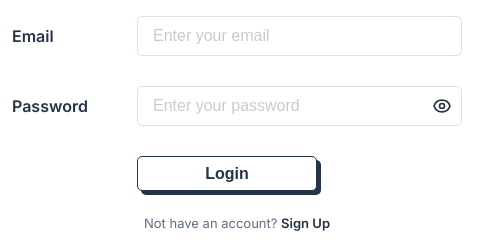
Test: login › should show password input
Click the password field with placeholder "Enter your password" at coordinates (300, 106), box x1=137 y1=86 x2=462 y2=126
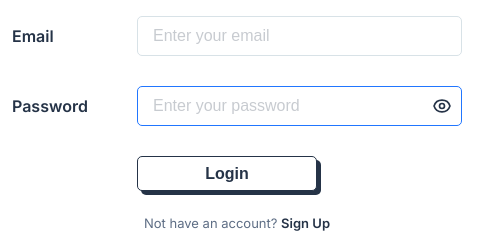
Type keys "password123"
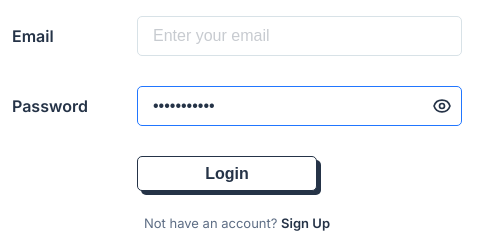
Expected: the password field with placeholder "Enter your password" holds "password123", x1=137 y1=86 x2=462 y2=126
